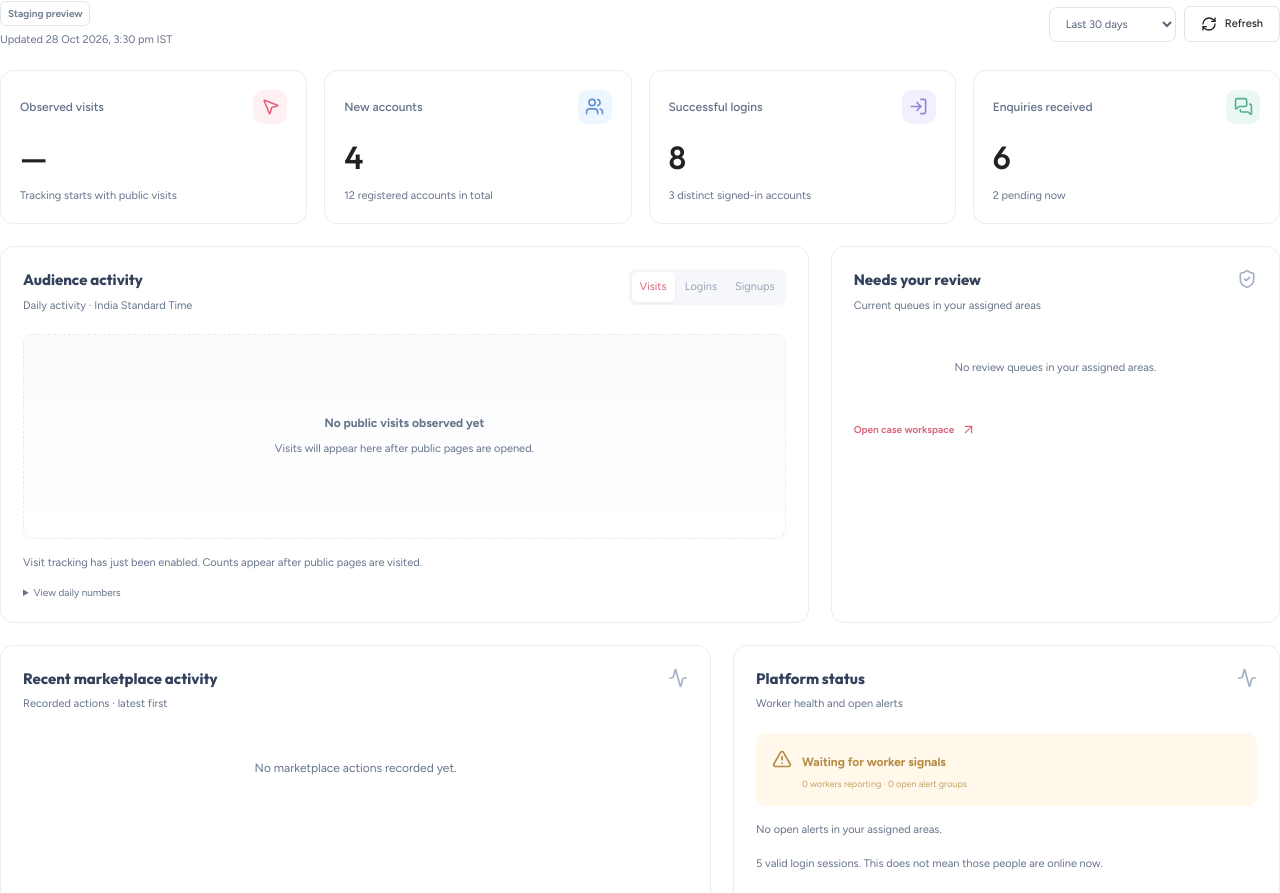
Test: shows unavailable historical visits honestly and switches the chart without exposing finance to Support
Later steps or results of the test are not shown.
Check: the text "Observed visits" is shown, box [20,98,104,116]
Check: the text "Visit tracking has just been enabled" is shown, box [23,556,422,569]
What coordinates should you click on to do the following:
click the button "Logins"
I would click on:
 (701, 287)
Its box is [677,272,725,302].
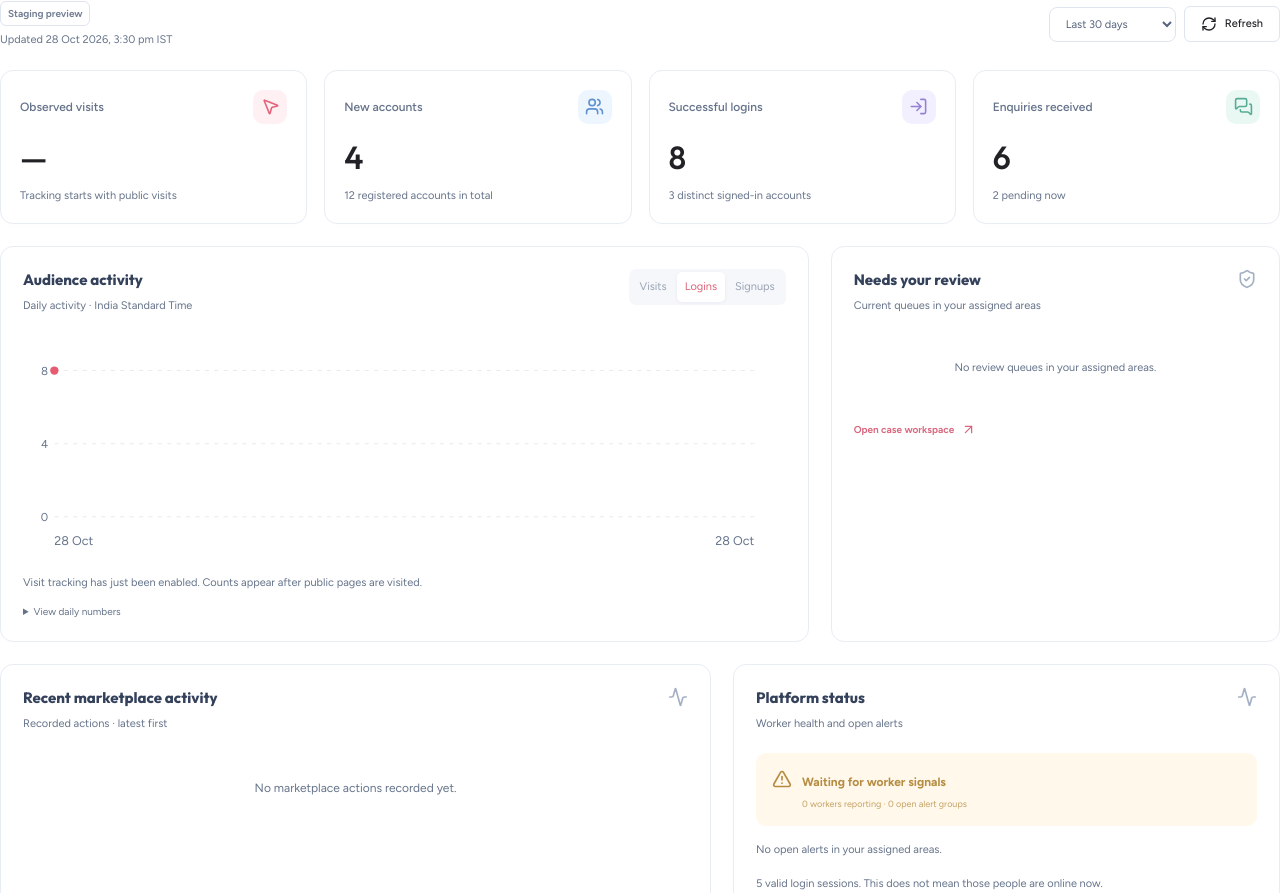
Check: the picture named "logins trend over 30 days" is shown, box [23,334,786,559]
